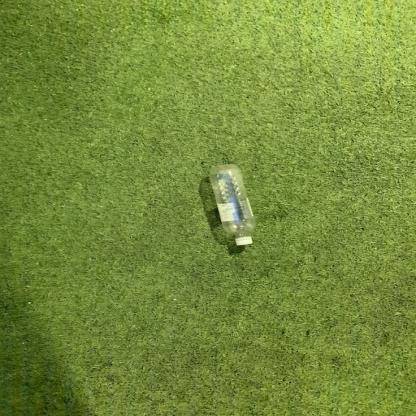trash: (206, 163, 262, 249)
